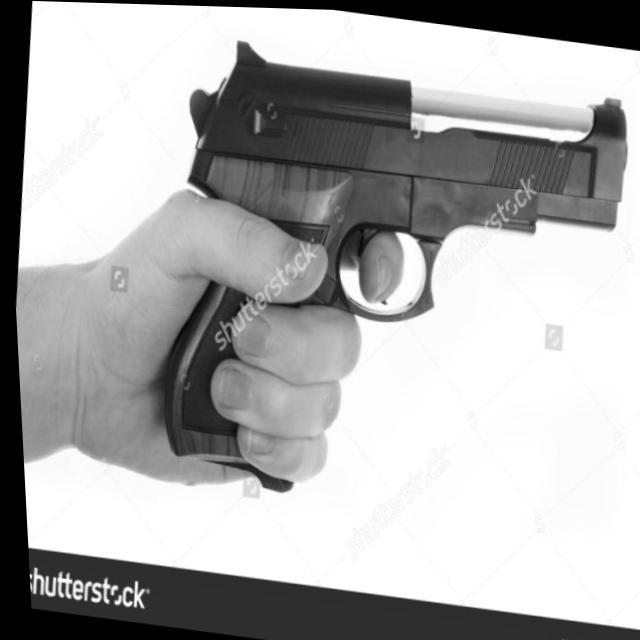weapon: (137, 28, 640, 530)
